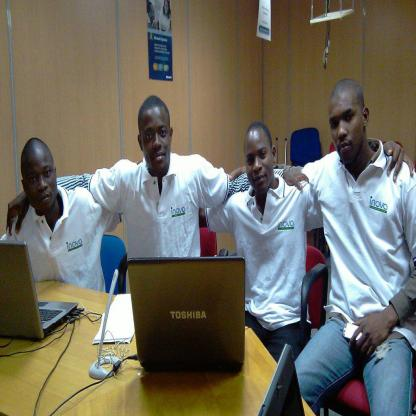board: (126, 256, 245, 374), (0, 240, 79, 340), (258, 345, 306, 416)
